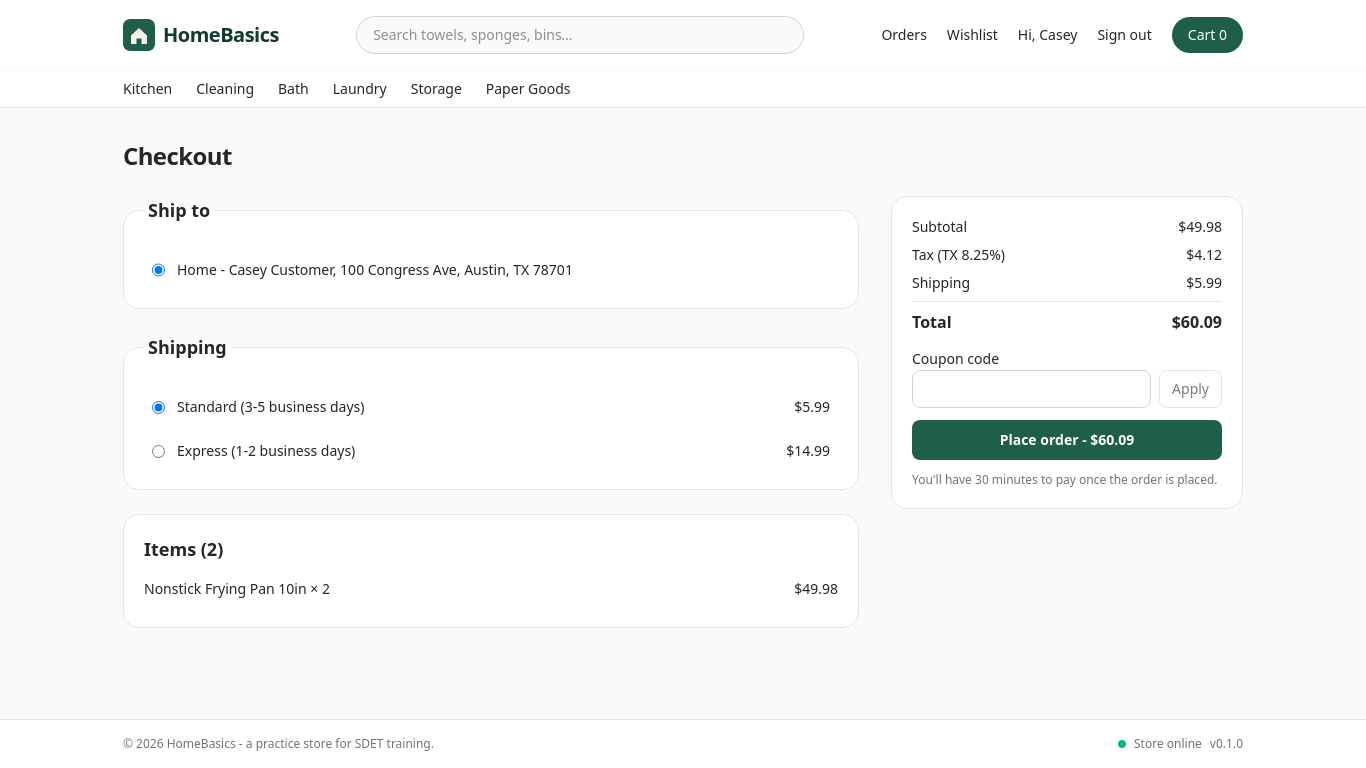
Test: Checkout coupons (CPN) › applying a code re-prices the order and shows the discount
Expected: the text "$60.09" is shown, top-left (1172, 310), bottom-right (1222, 334)
Type "welcome10" into the field with test id "coupon-input" at (1032, 389), box top-left (912, 370), bottom-right (1151, 408)
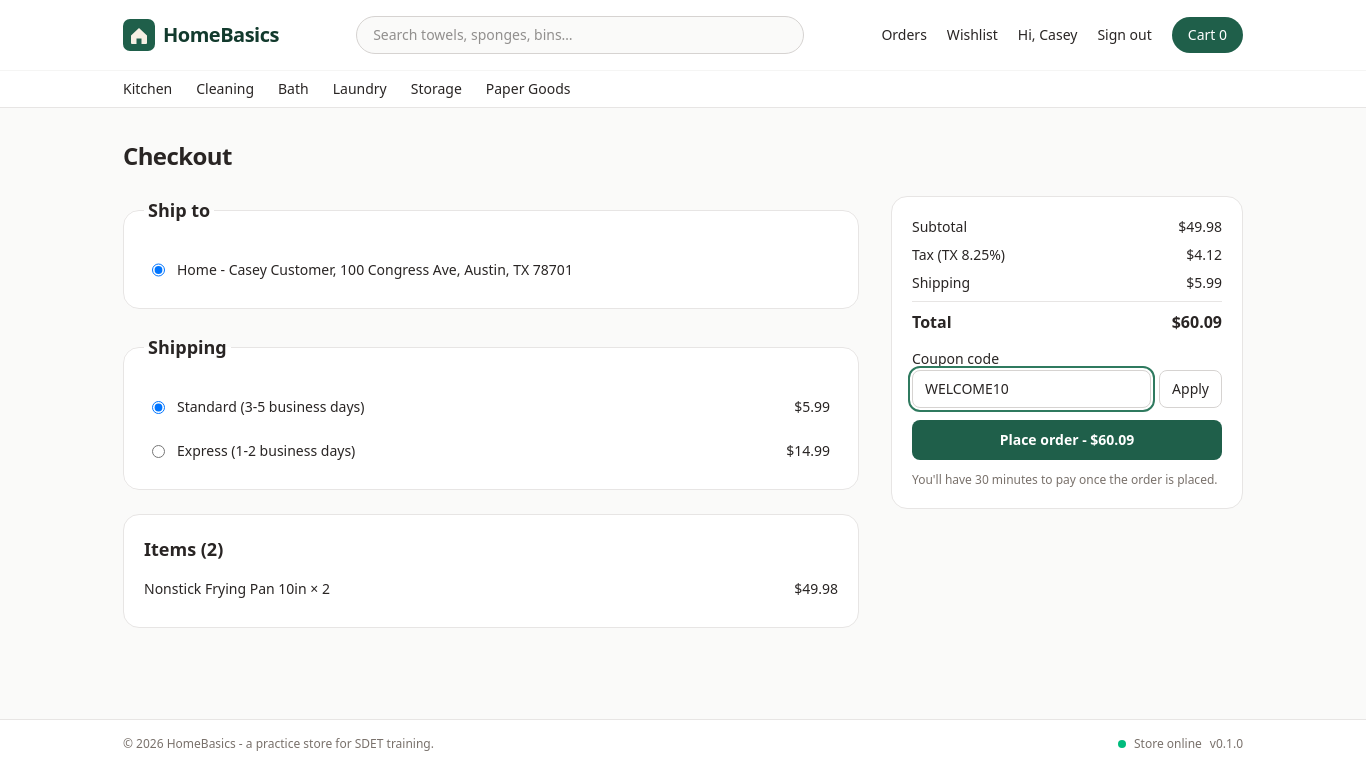
Click the button with test id "coupon-apply" at (1191, 389), box top-left (1159, 370), bottom-right (1222, 408)
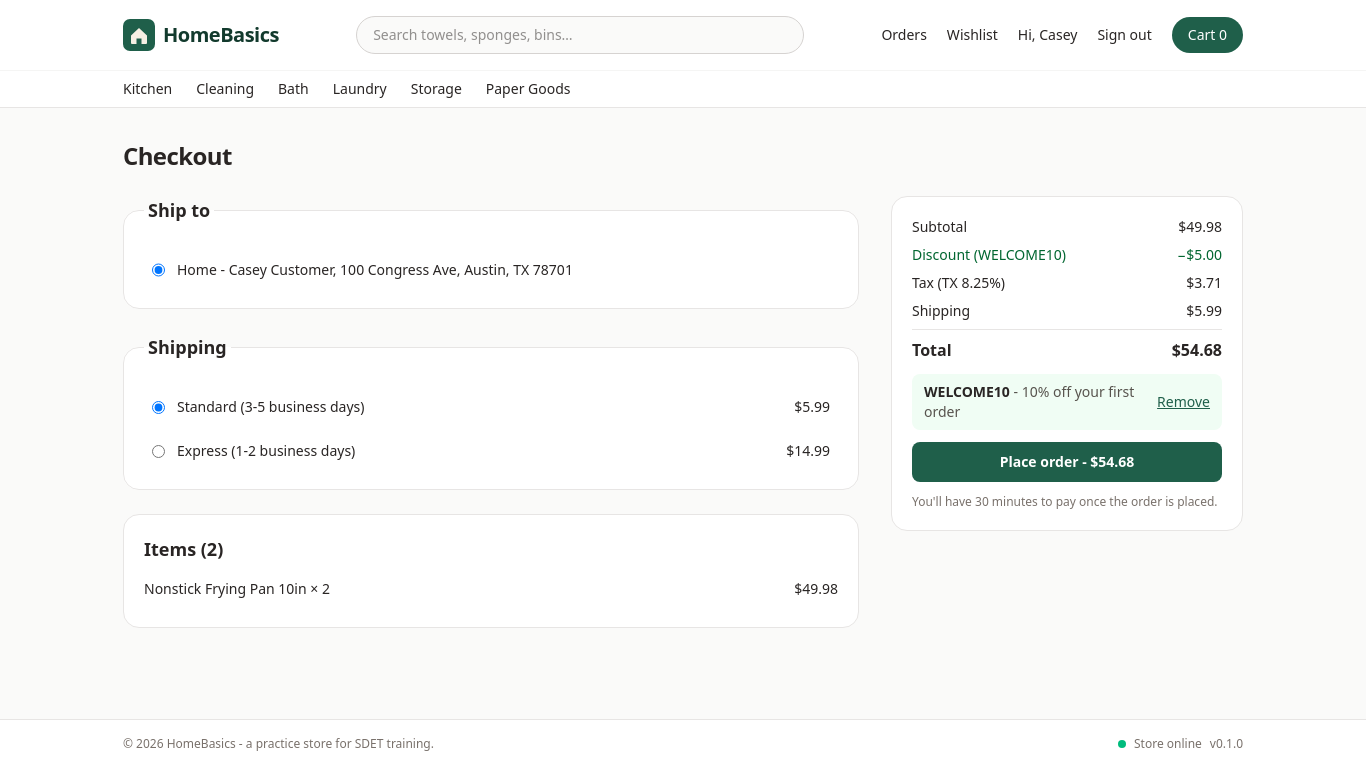
Expected: the element with test id "coupon-applied" shows "WELCOME10", top-left (924, 382), bottom-right (1010, 401)
Expected: the text with test id "summary-discount" reads "−$5.00", top-left (1177, 245), bottom-right (1222, 265)
Expected: the text with test id "summary-total" reads "$54.68", top-left (1172, 339), bottom-right (1222, 361)
